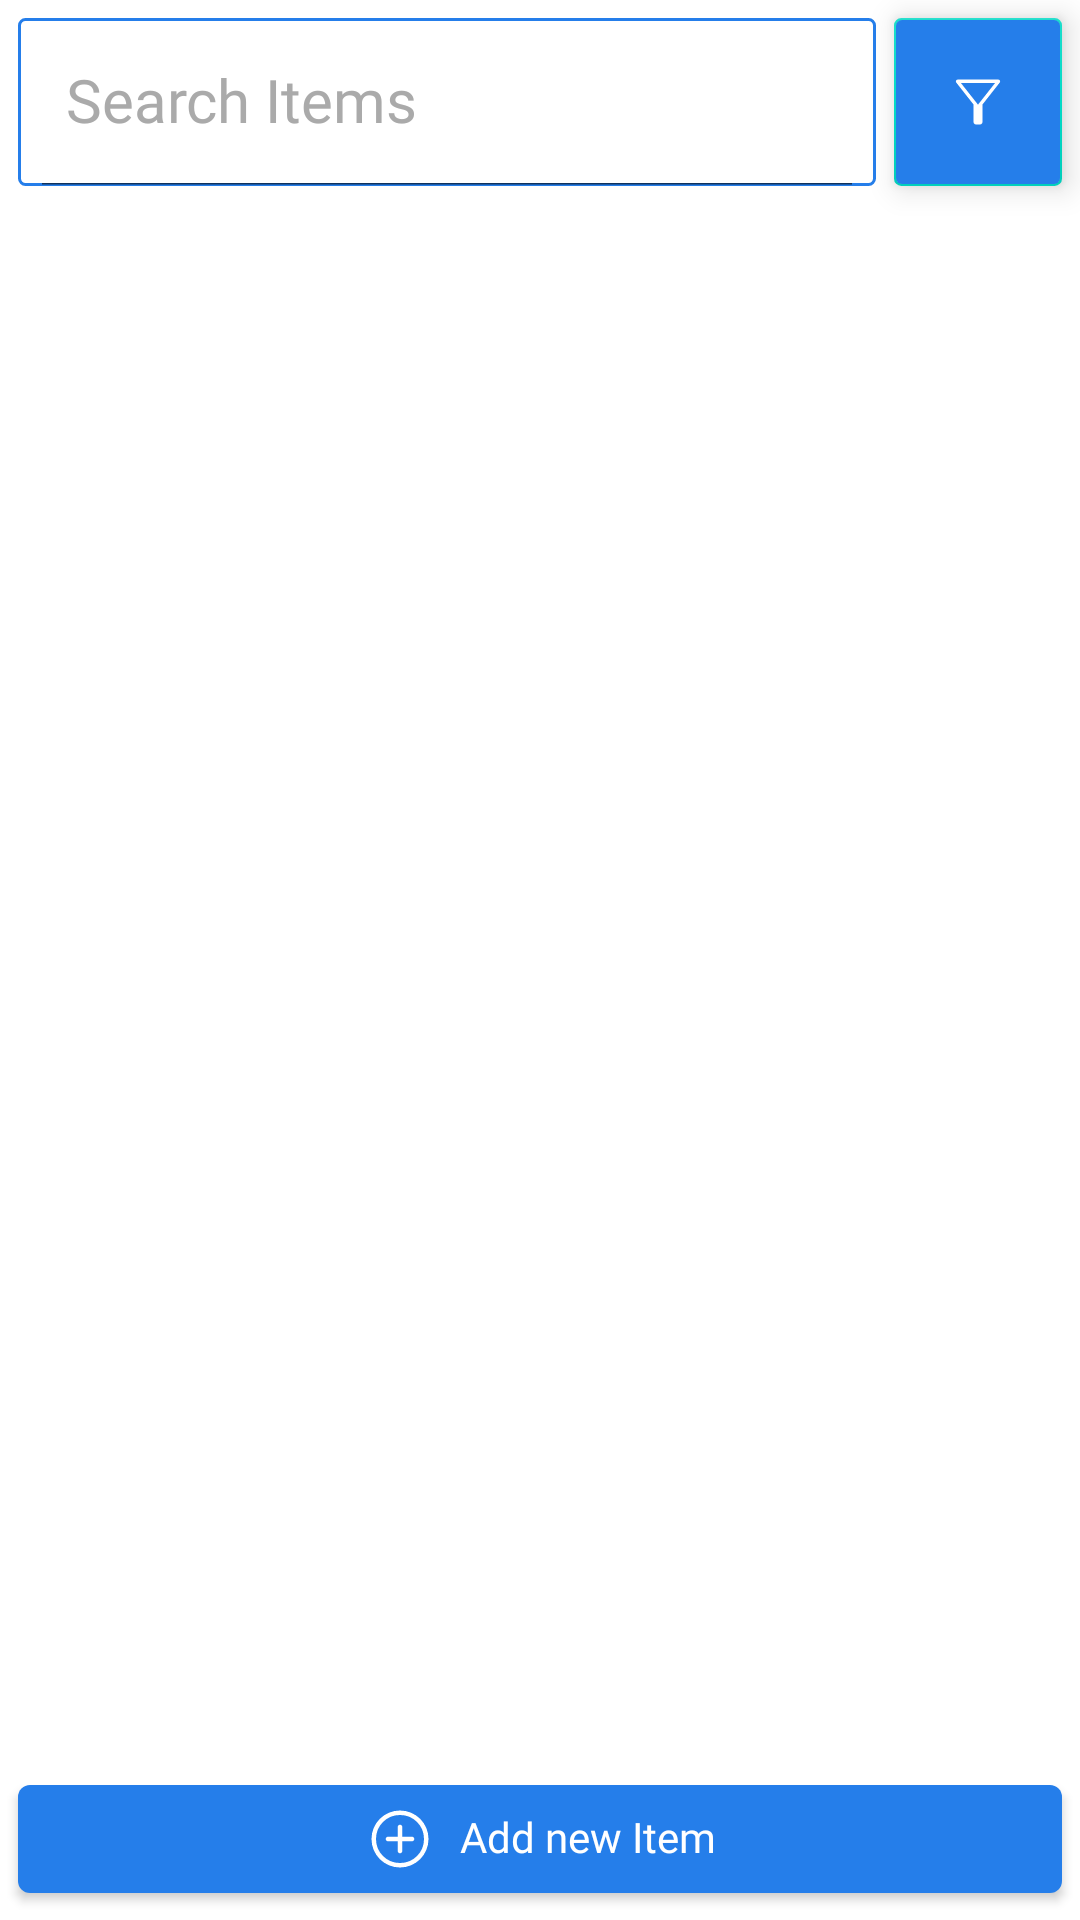

Screen size 1080 x 1920. Icon name, then its box in pixels as (x1, y1, x2, y2):
filter: (894, 18, 1062, 186)
